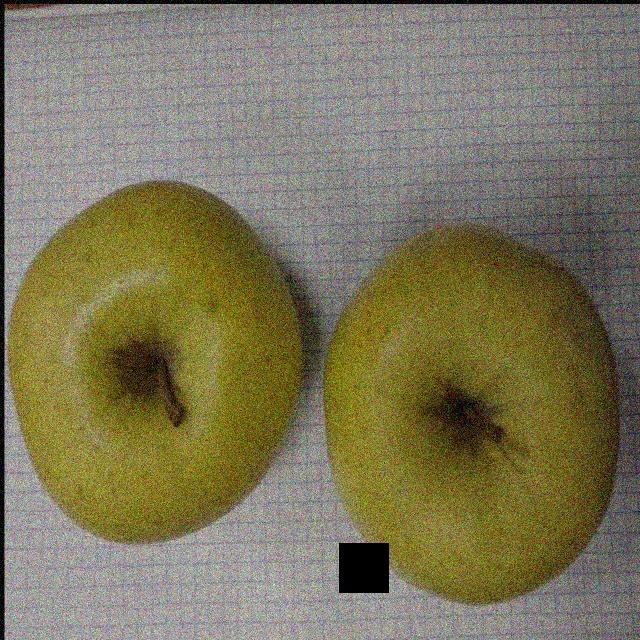green apple: (320, 215, 621, 610), (6, 180, 304, 546)
